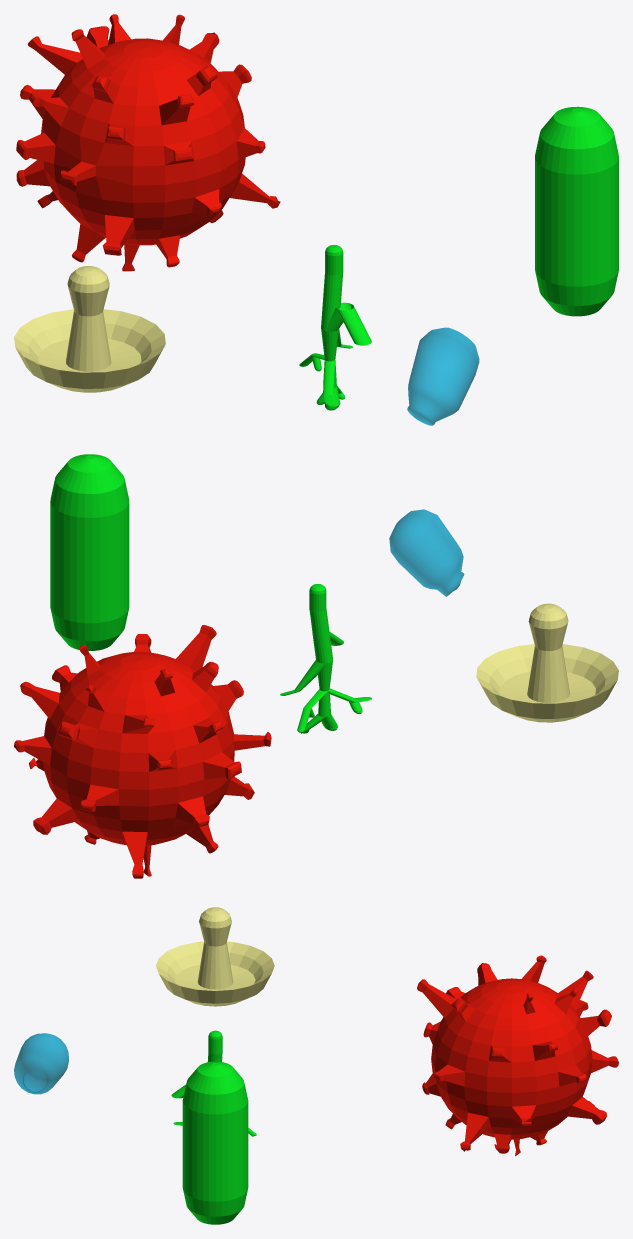
File: microorganisms.fbx
3 renders of one model, top to bottom at view 1: azimuth 30°, elevation 25°; view 2: azimuth 150°, elevation 25°; view 3: azimuth 270°, elevation 25°, orthographic. The views are drawn at different scales.
Visible parts, largest first — view 1: vir, Bac, fungi, protz, Cylinder; view 2: vir, Bac, fungi, protz, Cylinder; view 3: vir, Bac, fungi, protz, Cylinder.
Part boxes in pixels (x1=…): vir: x1=16, y1=14, x2=280, y2=271; Bac: x1=535, y1=106, x2=618, y2=316; fungi: x1=14, y1=266, x2=165, y2=392; protz: x1=407, y1=327, x2=479, y2=425; Cylinder: x1=299, y1=245, x2=371, y2=410; vir: x1=14, y1=625, x2=271, y2=878; Bac: x1=50, y1=454, x2=129, y2=650; fungi: x1=476, y1=603, x2=618, y2=722; protz: x1=389, y1=509, x2=464, y2=596; Cylinder: x1=280, y1=584, x2=371, y2=733; vir: x1=417, y1=955, x2=618, y2=1156; Bac: x1=182, y1=1061, x2=248, y2=1224; fungi: x1=156, y1=907, x2=274, y2=1006; protz: x1=14, y1=1033, x2=68, y2=1094; Cylinder: x1=171, y1=1030, x2=256, y2=1136.
Bounding box in the file's own units: 657 × 256 × 750.
